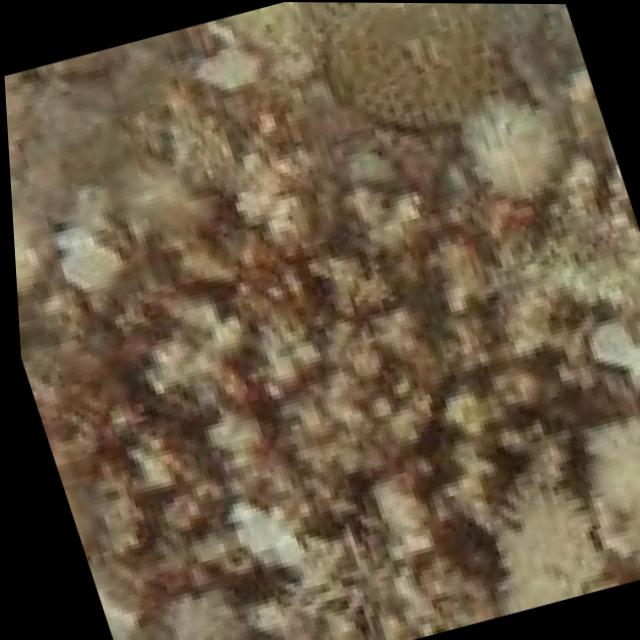Healthy Coral: (271, 2, 604, 187)
